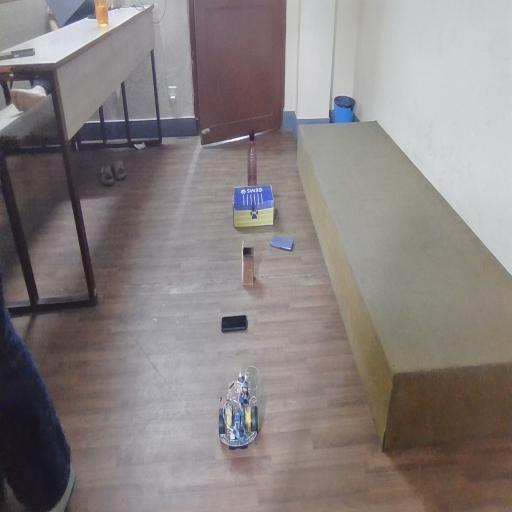Bottle: (244, 126, 270, 203)
car: (220, 353, 267, 454)
